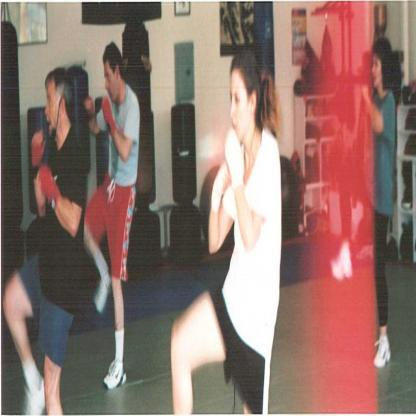face: (230, 72, 249, 146), (46, 82, 58, 135), (105, 61, 117, 102), (373, 53, 383, 89)
